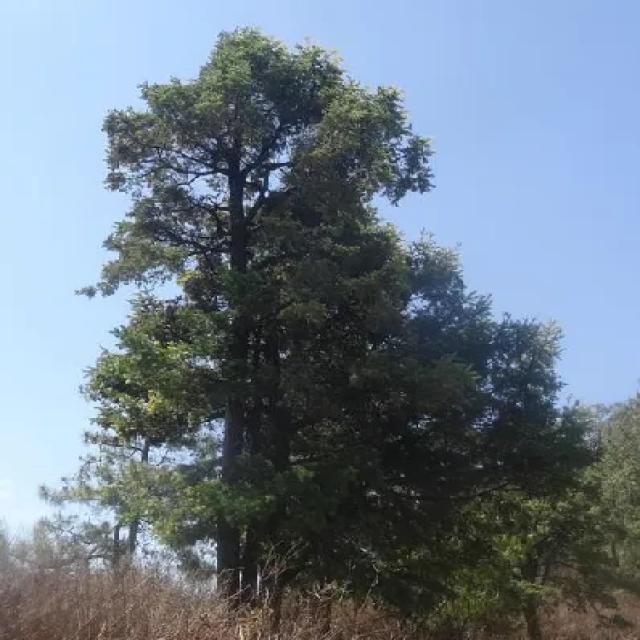dianyousong: (128, 39, 565, 631)
